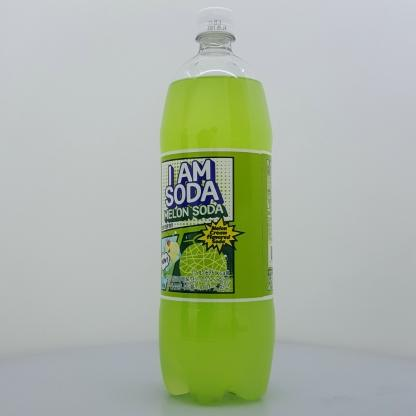-----------: (159, 7, 275, 404)
